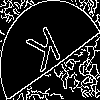K: (25, 25, 67, 82)
